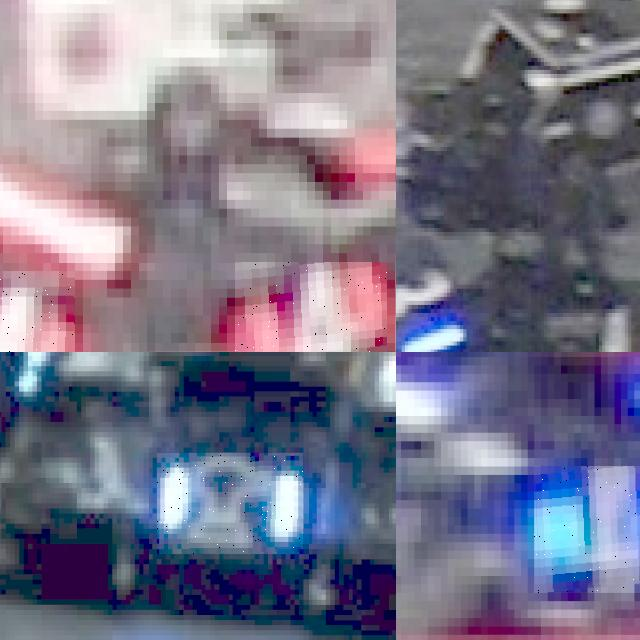B4: (534, 466, 640, 592)
Bs: (157, 453, 303, 554)
R4: (235, 261, 387, 352), (0, 271, 75, 352)
